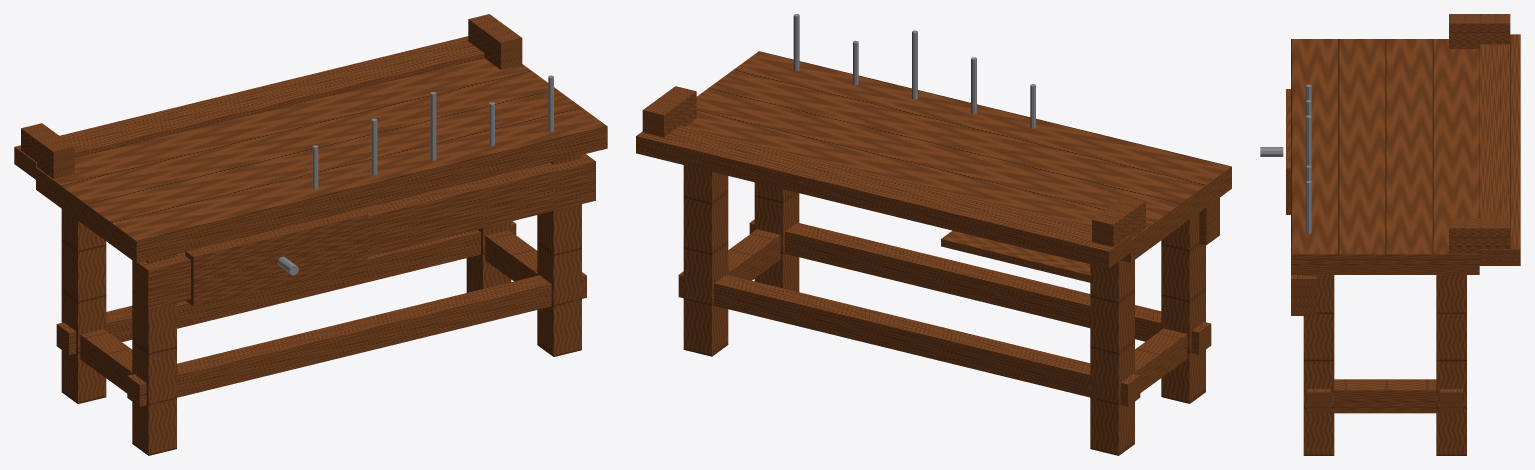
The model's file is blacksmith-forge-and-armoury-blacksmith-forge-and-armo-24497dd1__37574.glb.
3 renders of one model, left to right at view 1: azimuth 30°, elevation 25°; view 2: azimuth 150°, elevation 25°; view 3: azimuth 270°, elevation 25°, orthographic. The views are drawn at different scales.
Parts seen in each view (by area): view 1: blacksmith-forge-and-armoury-smiths-work-bench, drawer-1/timber; view 2: blacksmith-forge-and-armoury-smiths-work-bench, drawer-1/timber; view 3: blacksmith-forge-and-armoury-smiths-work-bench, drawer-1/timber.
Boxes of the visible parts, x1,y1,x2,y2 form: blacksmith-forge-and-armoury-smiths-work-bench: [14, 14, 607, 455]; drawer-1/timber: [185, 209, 367, 306]; blacksmith-forge-and-armoury-smiths-work-bench: [636, 14, 1231, 455]; drawer-1/timber: [941, 230, 1090, 282]; blacksmith-forge-and-armoury-smiths-work-bench: [1291, 14, 1520, 455]; drawer-1/timber: [1286, 89, 1290, 214].
Bounding box in the file's own units: 2 × 1.18 × 1.02.
2 materials, 1 textured.
